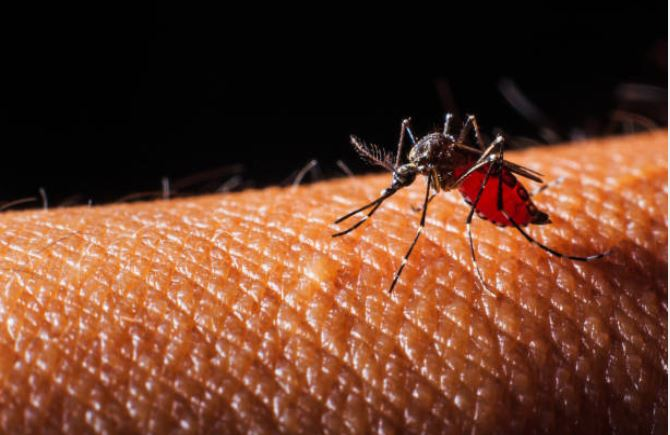dengue_mosquito: (337, 113, 603, 261)
